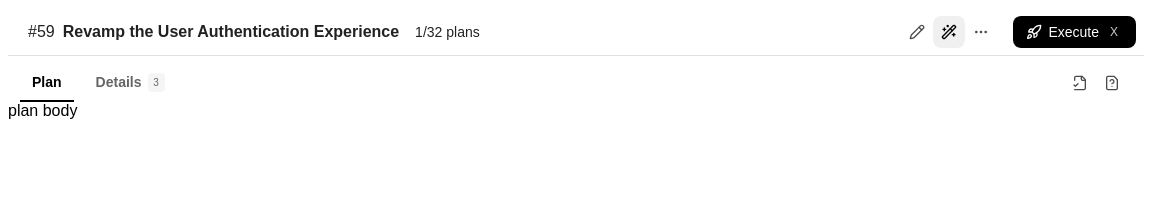
Test: PlanWorkspace › unpins on Escape and allows hover to reopen
This screenshot has width=1152, height=205.
Click the button named "Questions" at [1112, 83], box x1=1100 y1=71 x2=1124 y2=95
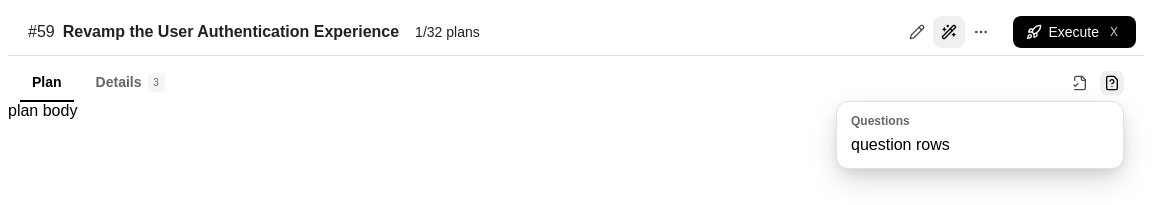
Expected: the text "question rows" is shown, x1=851 y1=136 x2=950 y2=153
Press Escape
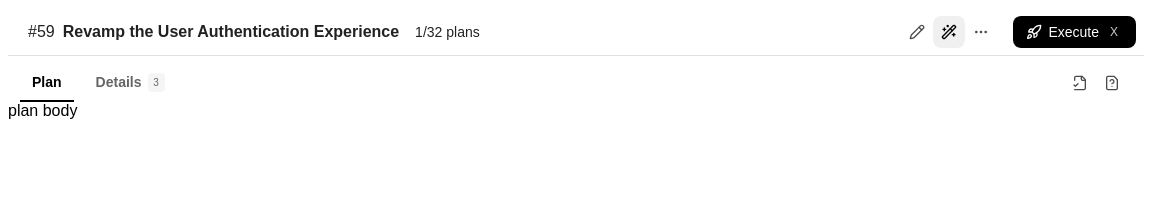
Expected: the text "question rows" is gone
Hover over the button named "Questions" at [1112, 83], box x1=1100 y1=71 x2=1124 y2=95
Wait 120 ms
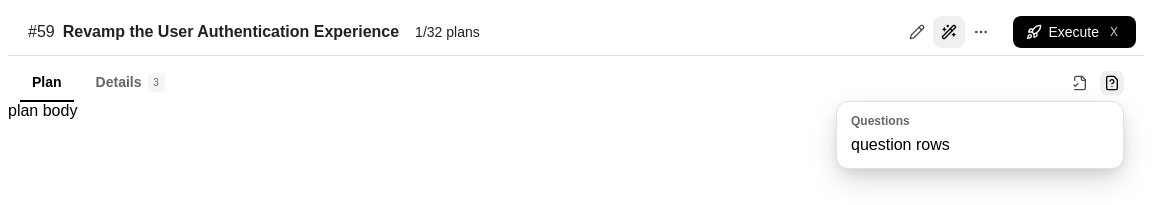
Expected: the text "question rows" is shown, x1=851 y1=136 x2=950 y2=153
